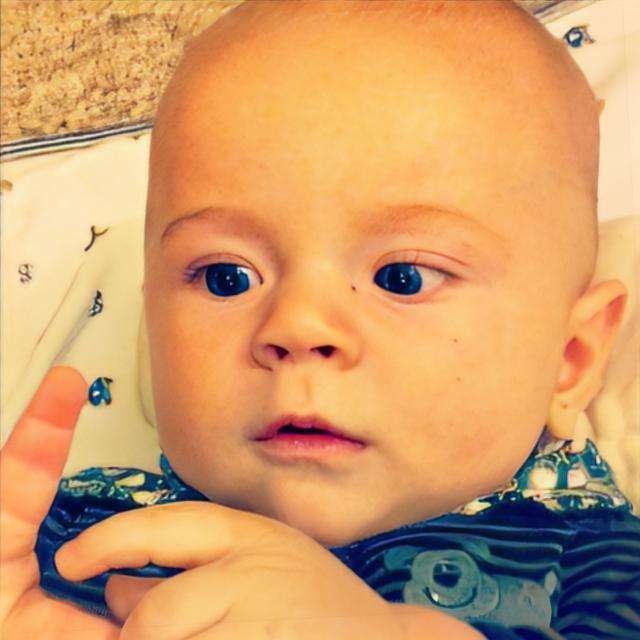surprise: (142, 0, 604, 549)
